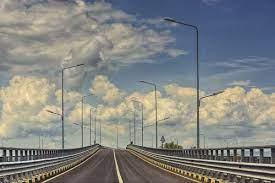Animal: (163, 13, 222, 156), (39, 58, 81, 162), (140, 75, 167, 145), (77, 90, 94, 154)
